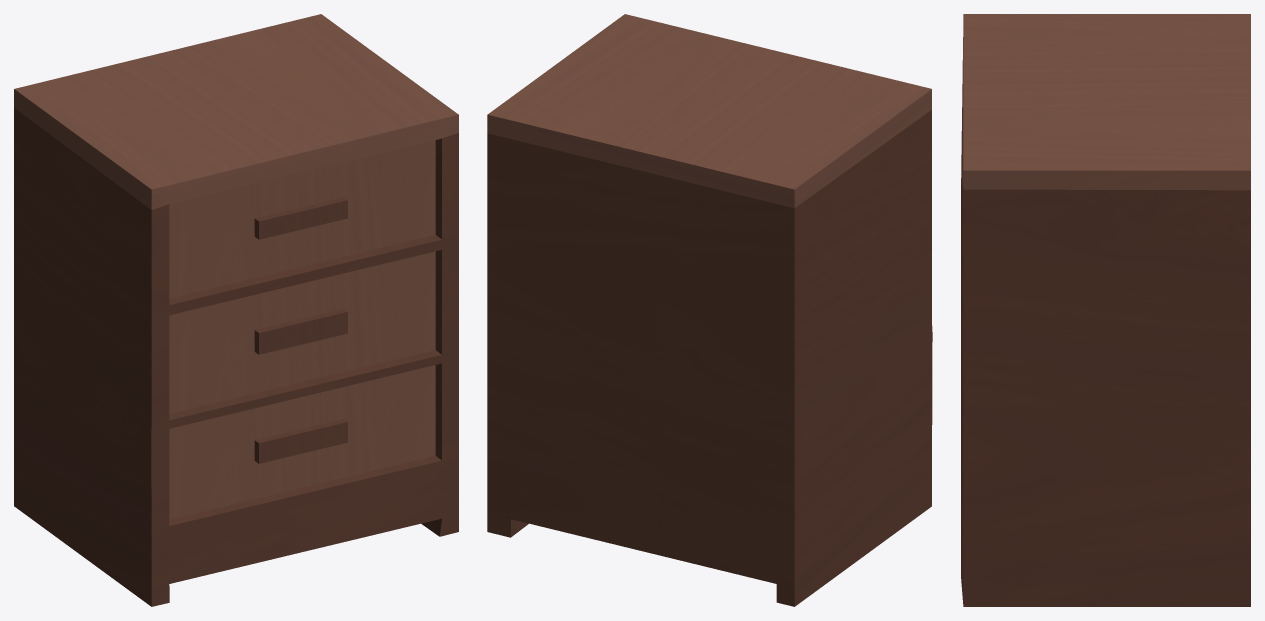
File: ImprovedNightstand.fbx
The picture shows the model from 3 angles, left to right: view 1: azimuth 30°, elevation 25°; view 2: azimuth 150°, elevation 25°; view 3: azimuth 270°, elevation 25°; orthographic projection. The views are drawn at different scales.
Visible parts, largest first — view 1: NightstandRemake; view 2: NightstandRemake; view 3: NightstandRemake.
Boxes of the visible parts, x1,y1,x2,y2 form: NightstandRemake: [14, 14, 458, 606]; NightstandRemake: [487, 14, 932, 606]; NightstandRemake: [961, 14, 1250, 606].
Bounding box in the file's own units: 1.47 × 1.9 × 1.14.
Materials: 1 (1 with a texture image).
